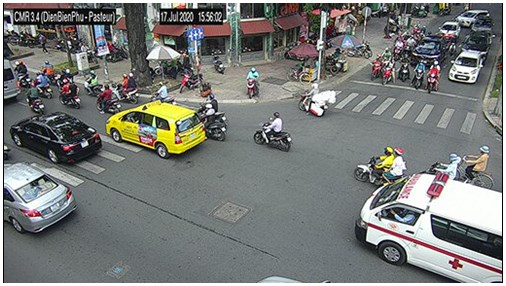xe_cuu_thuong: (355, 173, 502, 282)
xe_hoi: (4, 164, 77, 234), (10, 111, 102, 163), (449, 49, 484, 84), (461, 30, 490, 59), (457, 10, 489, 27), (438, 21, 461, 37)
xe_may: (354, 146, 407, 184), (253, 112, 294, 153), (298, 83, 336, 116), (421, 154, 459, 179), (198, 93, 227, 125), (202, 103, 226, 141), (112, 73, 139, 104), (95, 83, 121, 113), (24, 81, 46, 114), (59, 79, 81, 108), (34, 71, 53, 98), (14, 60, 31, 88), (246, 66, 260, 99), (150, 81, 172, 102), (427, 60, 440, 94), (180, 73, 202, 93), (412, 59, 426, 90), (84, 71, 101, 95), (383, 57, 396, 86), (398, 54, 411, 82), (41, 60, 56, 84), (58, 68, 75, 88), (371, 52, 382, 81), (447, 35, 457, 55), (393, 38, 403, 58)
xe_taxi: (105, 100, 206, 158)
